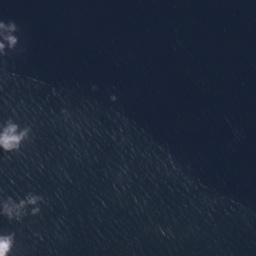Marine Debris: (11, 73, 17, 77)
